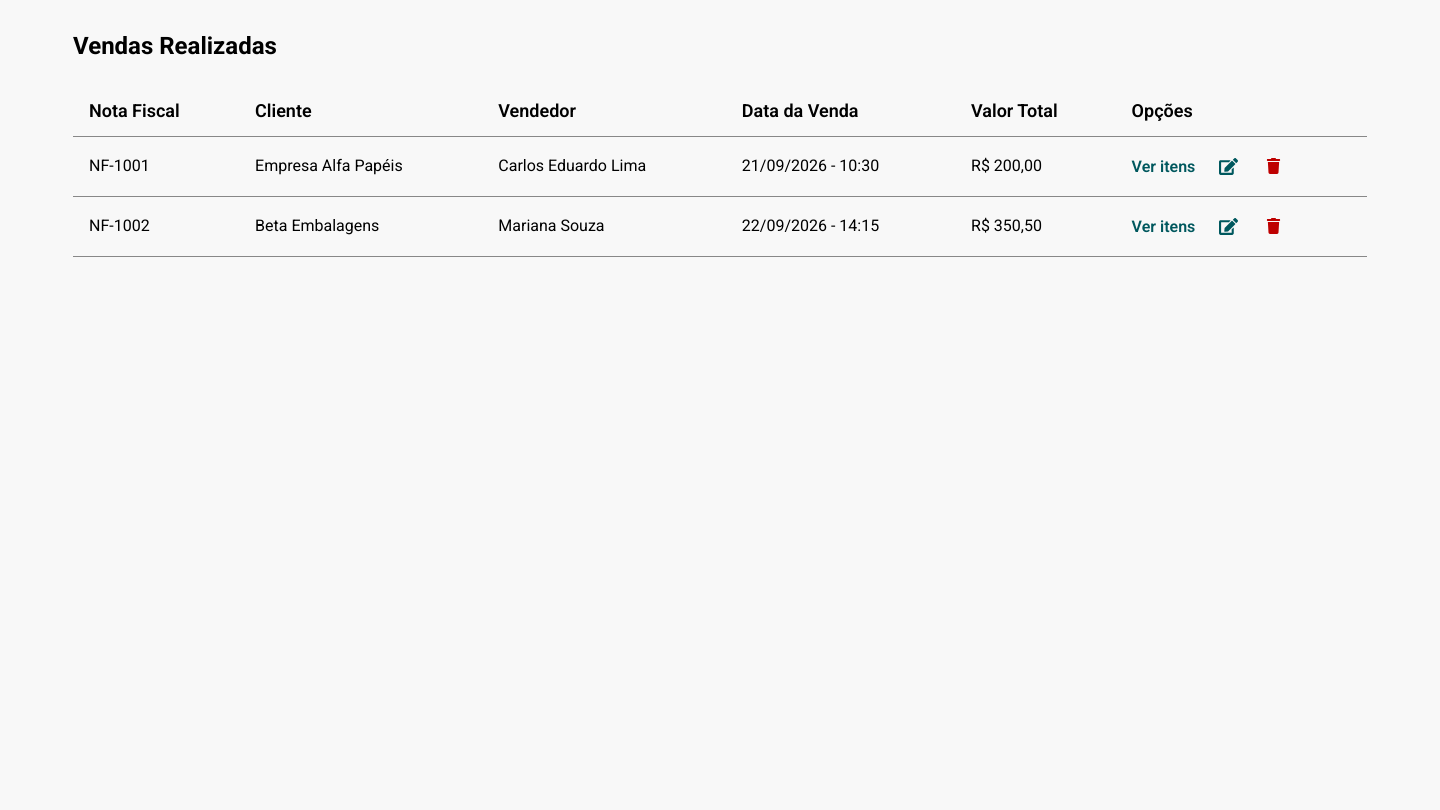
Test: SalesList Page Component › exclui venda ao confirmar no modal com botão Sim e exibe Toast de sucesso
The image size is (1440, 810).
Check: the text "NF-1001" is shown, box top-left (73, 136), bottom-right (239, 196)
Clica no botão de excluir venda
Step 1. Click the button named "excluir venda nf-1001" → (1274, 166), box top-left (1262, 154), bottom-right (1285, 178)
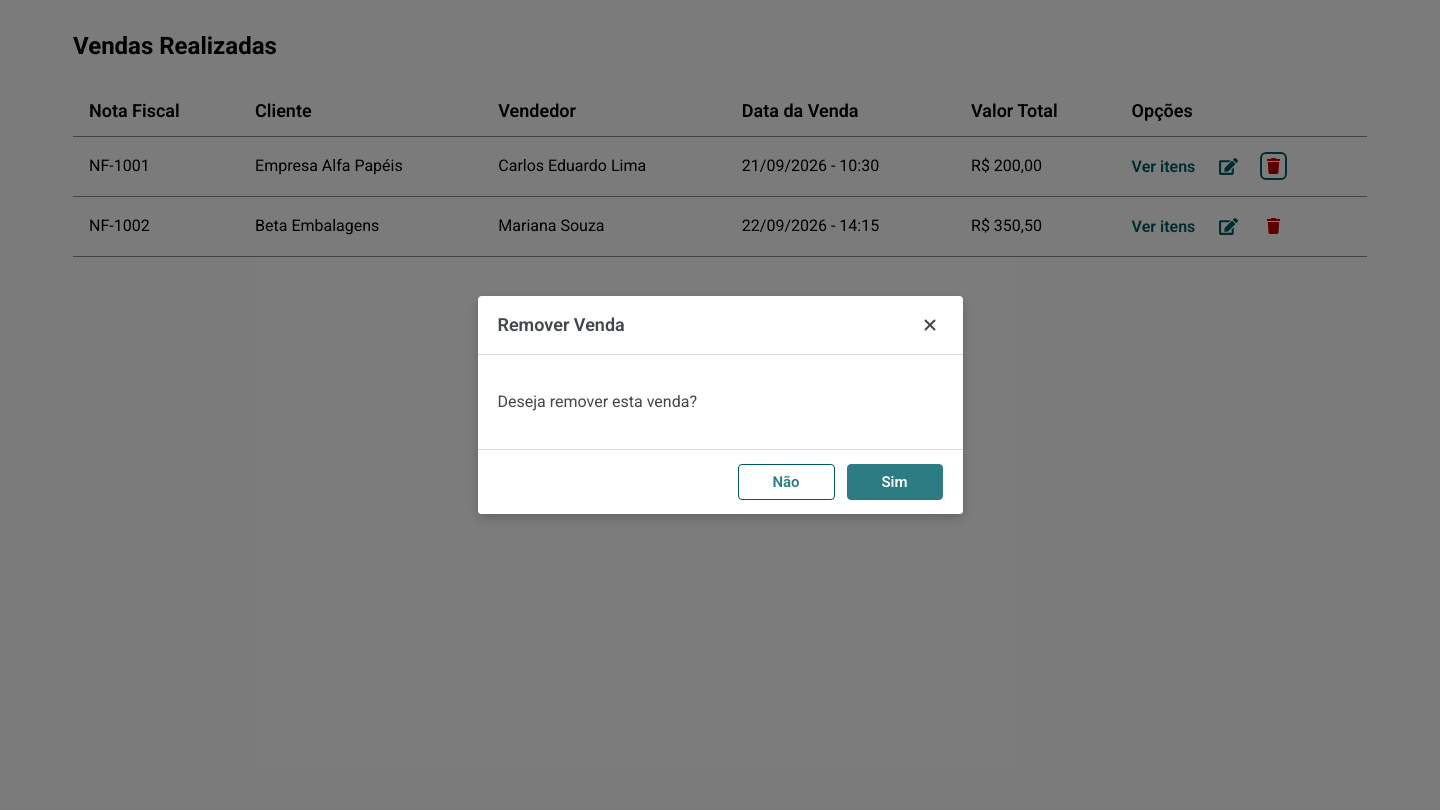
Check: the heading "Remover Venda" is shown, box top-left (498, 313), bottom-right (625, 337)
Clica em "Sim" para confirmar exclusão
Step 2. Click the button "Sim" → (894, 482), box top-left (846, 464), bottom-right (942, 500)
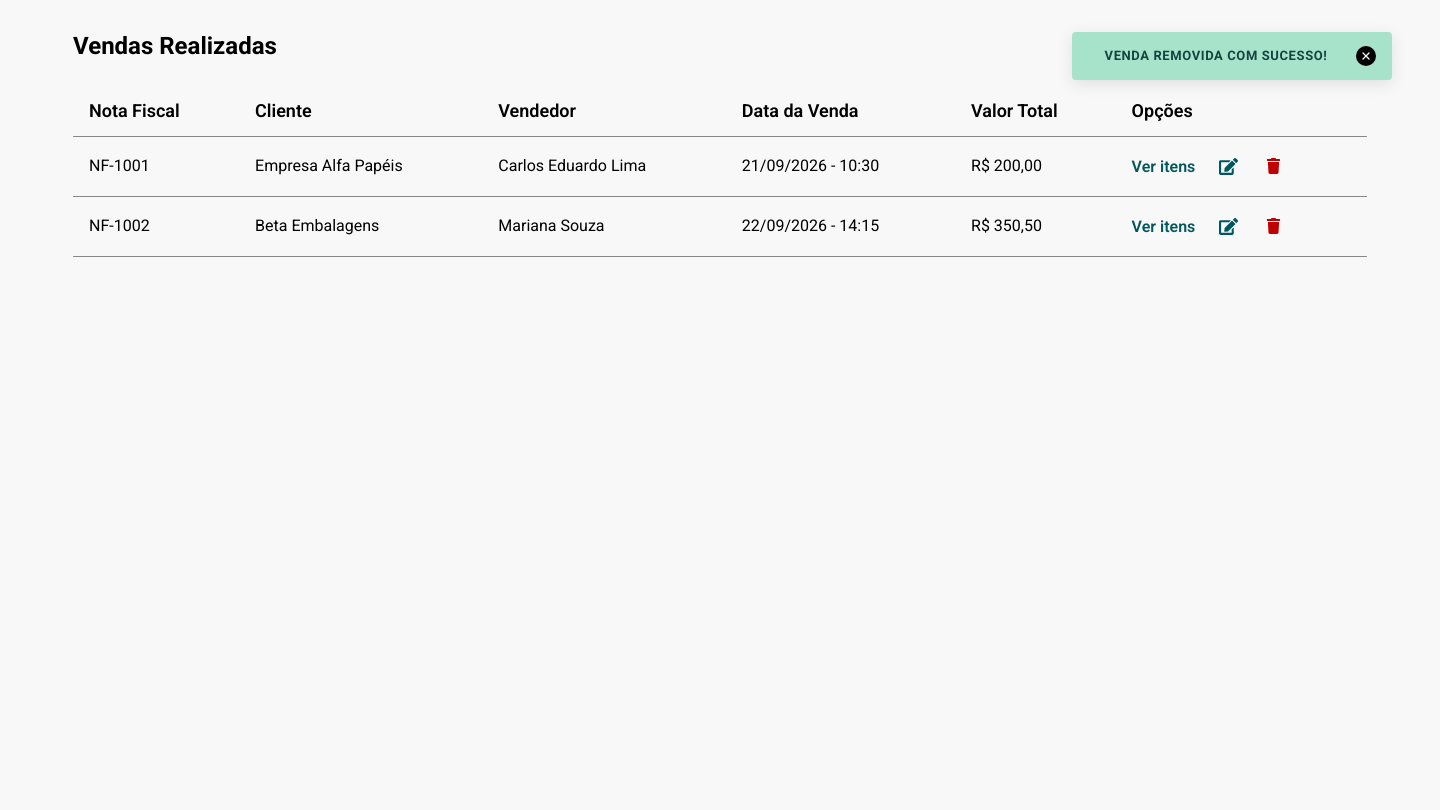
Check: the text "VENDA REMOVIDA COM SUCESSO!" is shown, box top-left (1096, 46), bottom-right (1336, 66)
Check: the heading "Remover Venda" is gone
